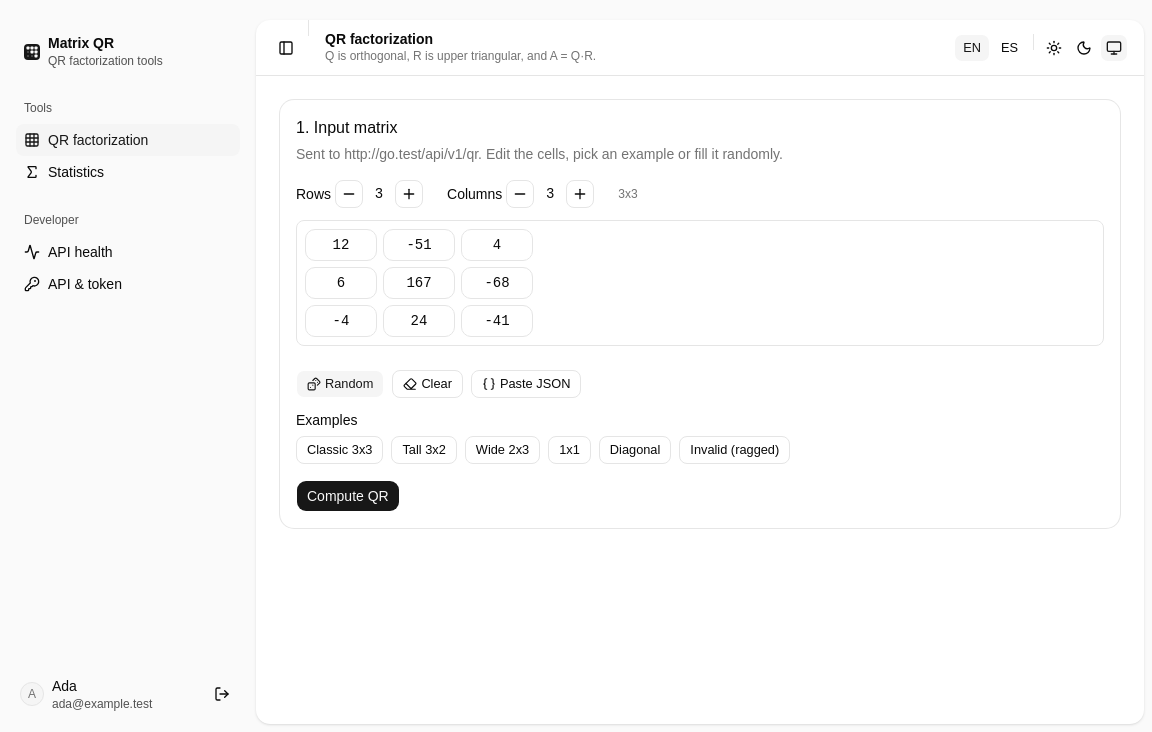
Test: QR results survive the SDK loading flag › handles a 2x2 diagonal matrix (including -0 and tiny float noise)
The image size is (1152, 732).
Click the button "Compute QR".
click(348, 496)  # box [296,480,400,512]
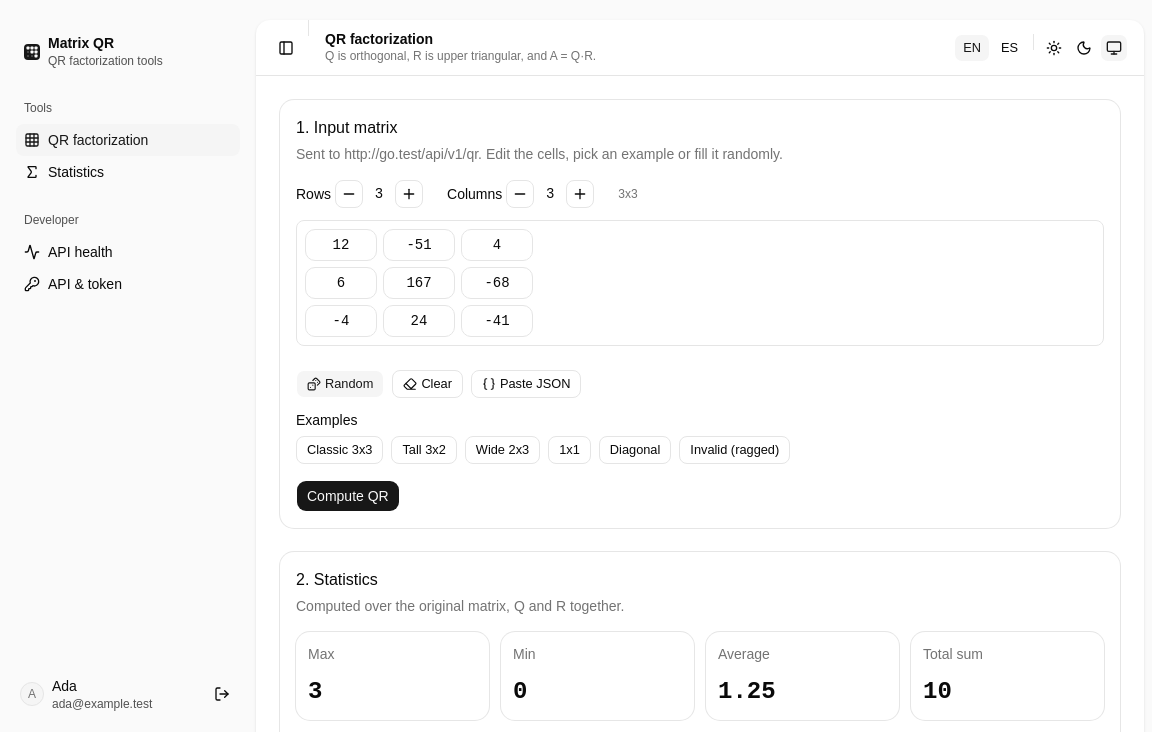
Expected: the text "1.25" is shown, [718,678,776,705]
